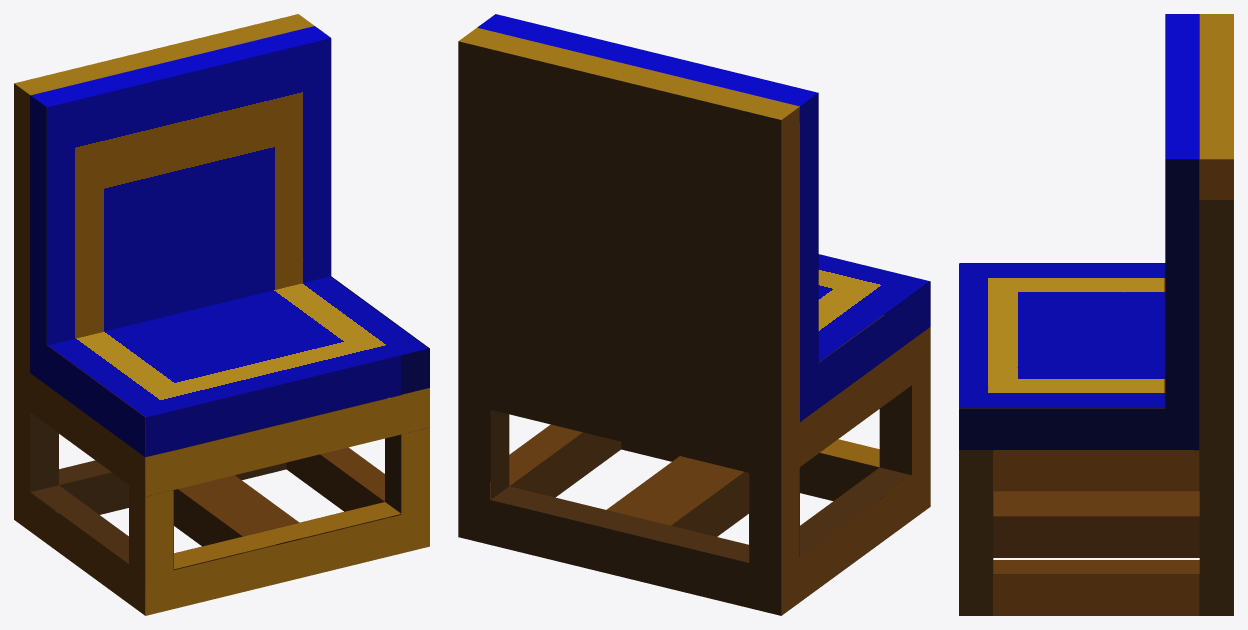
The model's file is chair_369_10.obj.
3 views of the same model, side by side, from view 1: azimuth 30°, elevation 25°; view 2: azimuth 150°, elevation 25°; view 3: azimuth 270°, elevation 25° (orthographic). The views are drawn at different scales.
Visible parts, largest first — view 1: Chair; view 2: Chair; view 3: Chair.
Part boxes in pixels (box(x1,y1,x2,y2)): Chair: box(14, 14, 429, 615); Chair: box(458, 14, 930, 615); Chair: box(959, 14, 1233, 615).
Bounding box in the file's own units: 1.25 × 1.83 × 1.
